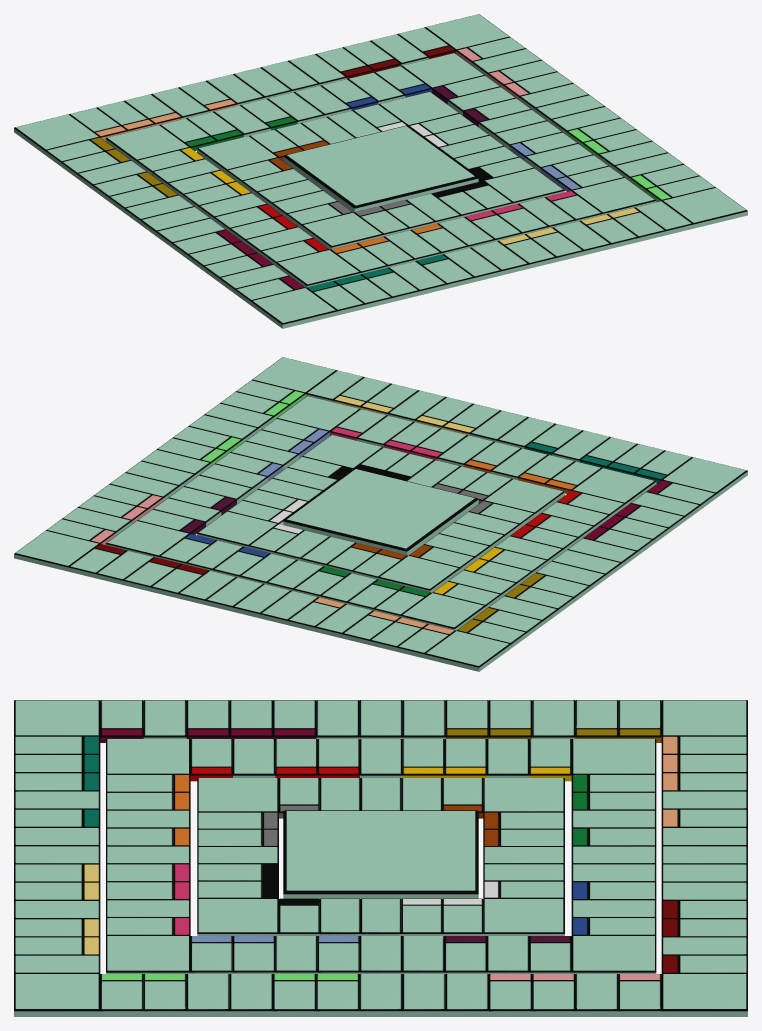
3 renders of one model, top to bottom at view 1: azimuth 30°, elevation 25°; view 2: azimuth 150°, elevation 25°; view 3: azimuth 270°, elevation 25°, orthographic. The views are drawn at different scales.
Visible parts, largest first — view 1: Centro, N01_Corner01, N01_Corner02, N01_Corner04, N02_Corner02, N03_Corner02, N02_Corner01, N02_Corner03, N01_Corner03, N03_Corner01, N03_Corner03, N02_Corner04 (+109 smaller); view 2: Centro, N01_Corner04, N01_Corner03, N01_Corner01, N02_Corner01, N03_Corner01, N02_Corner02, N02_Corner04, N01_Corner02, N03_Corner02, N03_Corner04, N02_Corner03 (+109 smaller); view 3: Centro, N01_Corner02, N01_Corner03, N02_Corner04, N02_Corner03, N01_Corner01, N01_Corner04, N03_Corner03, N03_Corner04, N02_Corner01, N02_Corner02, N03_Corner01 (+109 smaller).
Boxes of the visible parts, x1,y1,x2,y2 form: Centro: (283, 125, 478, 212); N01_Corner01: (251, 288, 337, 328); N01_Corner02: (662, 187, 747, 228); N01_Corner04: (14, 114, 99, 154); N02_Corner02: (276, 250, 360, 287); N03_Corner02: (301, 212, 383, 249); N02_Corner01: (105, 125, 189, 163); N02_Corner03: (572, 177, 656, 214); N01_Corner03: (425, 14, 510, 50); N03_Corner01: (197, 136, 278, 174); N03_Corner03: (483, 168, 564, 204); N02_Corner04: (401, 53, 484, 88); Centro: (283, 468, 478, 555); N01_Corner04: (424, 631, 510, 671); N01_Corner03: (14, 530, 99, 571); N01_Corner01: (662, 457, 747, 497); N02_Corner01: (401, 593, 485, 630); N03_Corner01: (378, 555, 459, 592); N02_Corner02: (572, 468, 656, 506); N02_Corner04: (105, 521, 189, 557); N01_Corner02: (251, 357, 336, 393); N03_Corner02: (483, 479, 564, 517); N03_Corner04: (197, 511, 278, 547); N02_Corner03: (277, 396, 360, 431); Centro: (283, 810, 478, 899); N01_Corner02: (14, 974, 100, 1016); N01_Corner03: (661, 974, 747, 1016); N02_Corner04: (571, 936, 656, 974); N02_Corner03: (106, 936, 190, 974); N01_Corner01: (14, 700, 100, 736); N01_Corner04: (661, 700, 747, 736); N03_Corner03: (197, 898, 278, 936); N03_Corner04: (483, 898, 564, 936); N02_Corner01: (571, 739, 656, 774); N02_Corner02: (106, 739, 190, 775); N03_Corner01: (483, 778, 564, 812).
Bounding box in the file's own units: 0.255 × 0.00422 × 0.255.
Materials: 23 (23 with a texture image).
